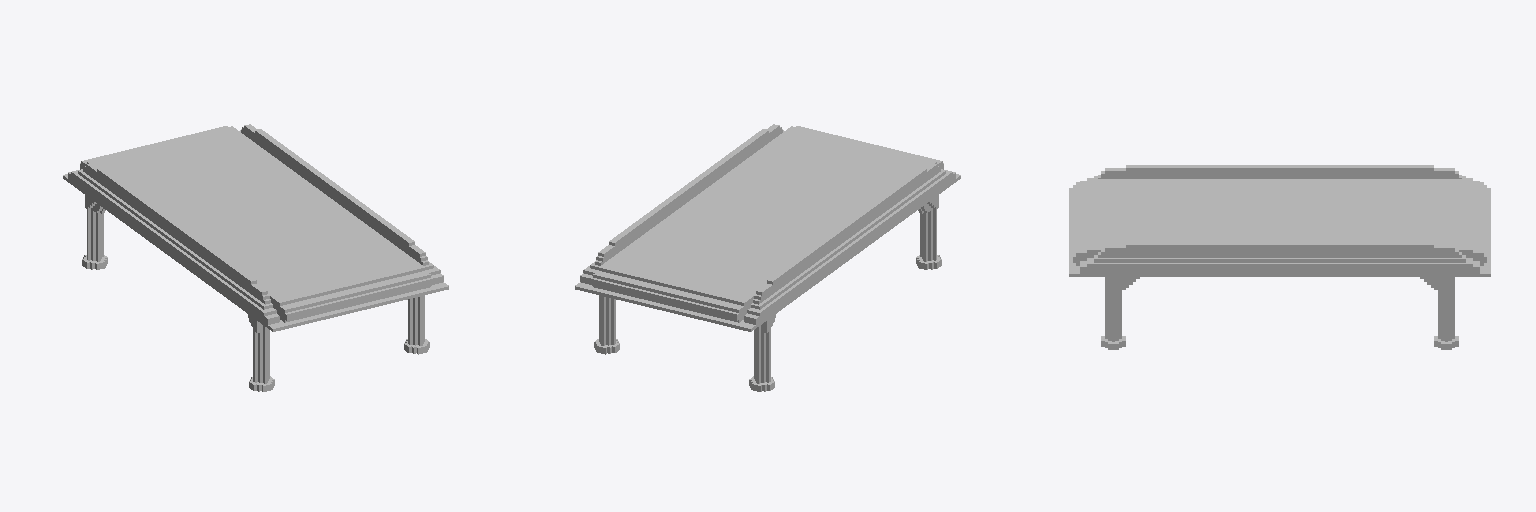
The model's file is SL_Conveyor.obj.
3 views of the same model, side by side, from view 1: azimuth 30°, elevation 25°; view 2: azimuth 150°, elevation 25°; view 3: azimuth 270°, elevation 25° (orthographic).
Parts seen in each view (by area): view 1: SL_Conveyor; view 2: SL_Conveyor; view 3: SL_Conveyor.
Boxes of the visible parts, box(x1,y1,x2,y2) form: SL_Conveyor: box(63, 124, 448, 391); SL_Conveyor: box(575, 124, 960, 391); SL_Conveyor: box(1069, 165, 1490, 349).
Bounding box in the file's own units: 58 × 32 × 120.